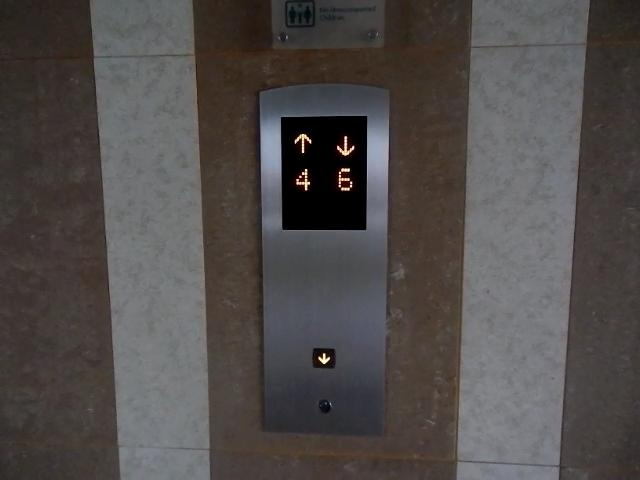down: (310, 345, 336, 370)
indicator: (316, 397, 332, 413)
led: (277, 113, 370, 234)
